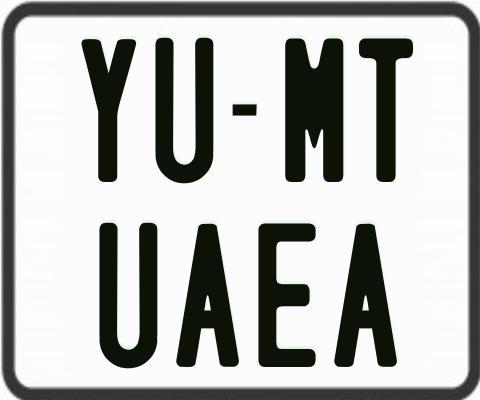A: (331, 223, 398, 372), (175, 222, 240, 366)
E: (257, 223, 318, 367)
M: (283, 38, 341, 184)
T: (357, 37, 415, 182)
U: (155, 37, 215, 186), (97, 223, 155, 371)
Y: (82, 36, 141, 183)
